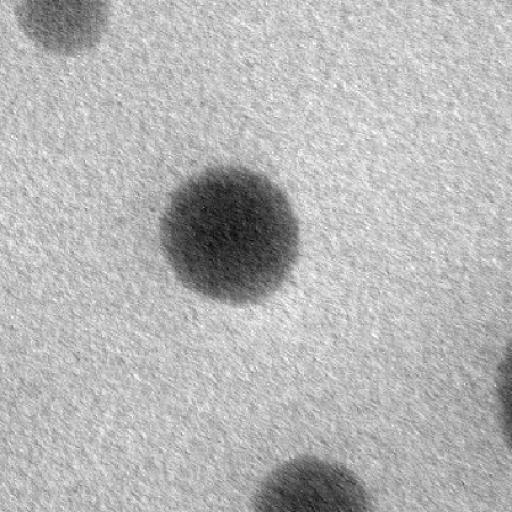Nanoparticles: (157, 162, 303, 302), (251, 455, 371, 510), (15, 1, 110, 56), (494, 343, 512, 450)
